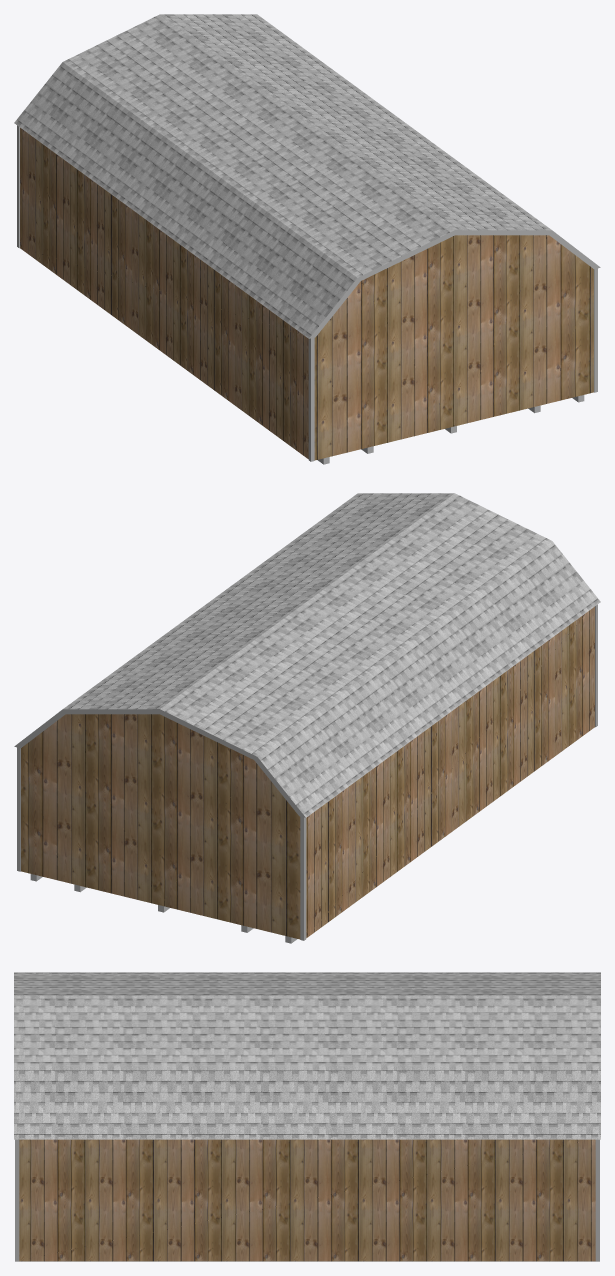
The model's file is Dutch Barn_14x24.obj.
The picture shows the model from 3 angles, top to bottom: view 1: azimuth 30°, elevation 25°; view 2: azimuth 150°, elevation 25°; view 3: azimuth 270°, elevation 25°; orthographic projection.
Parts seen in each view (by area): view 1: Roof, Shed, Sides, Trim; view 2: Roof, Shed, Sides, Trim; view 3: Roof, Shed, Trim, Floor.
Part boxes in pixels (x1,y1,x2,y2): Roof: [14, 14, 551, 338]; Shed: [20, 127, 593, 460]; Sides: [309, 230, 600, 338]; Trim: [17, 125, 597, 461]; Roof: [63, 493, 600, 817]; Shed: [21, 606, 594, 939]; Sides: [14, 709, 305, 817]; Trim: [17, 604, 597, 940]; Roof: [14, 972, 600, 1139]; Shed: [19, 1139, 595, 1261]; Trim: [15, 1139, 599, 1261]; Floor: [19, 1261, 595, 1261].
Size of the model in its own units: 4.91 by 3.27 by 8.59.
